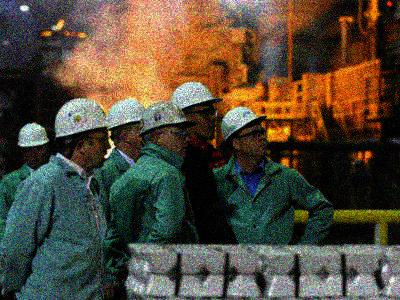helmet: (52, 95, 116, 166), (138, 99, 198, 157), (173, 80, 223, 140), (221, 105, 270, 157), (107, 98, 149, 154), (17, 120, 52, 171)
